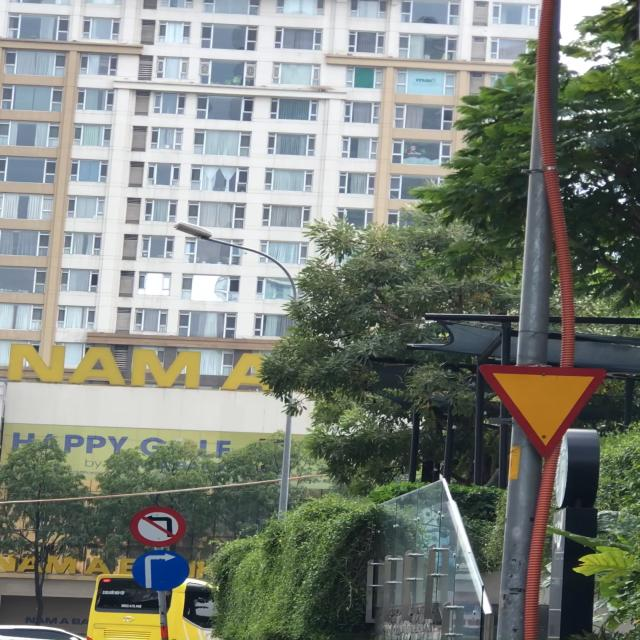Bien bao cam re trai: (128, 505, 190, 551)
Bien bao giao nhau voi duong uu tien: (474, 356, 610, 460)
Bien bao huong di phai theo: (131, 547, 195, 598)
